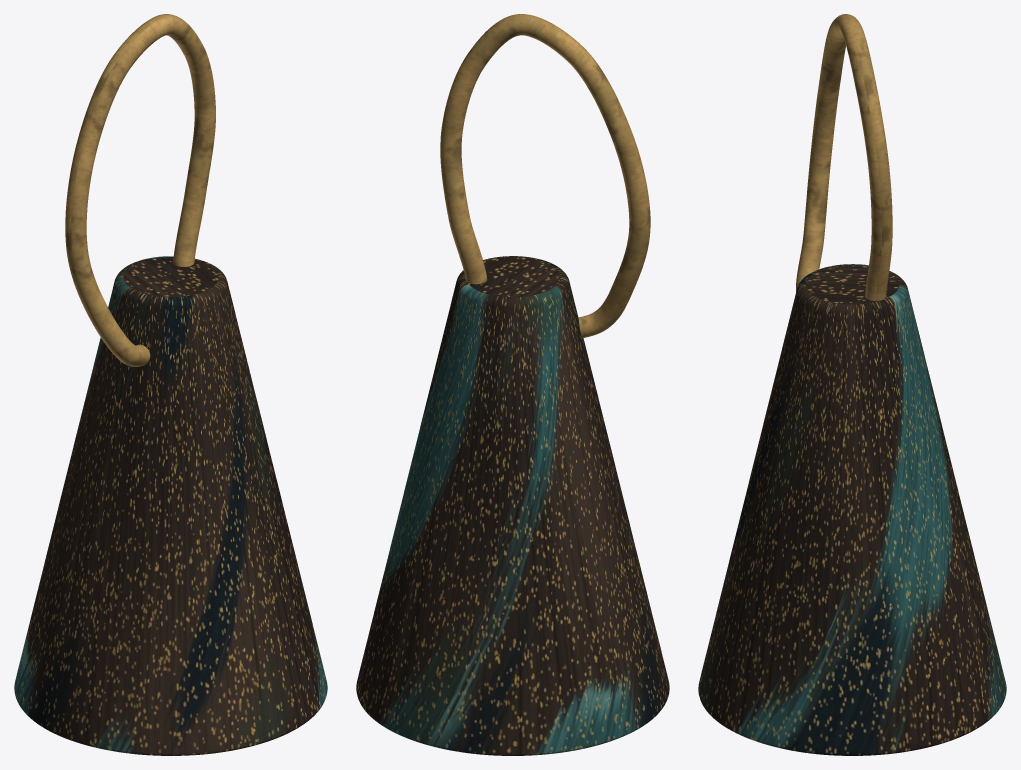
File: king-black-hd.glb
3 views of the same model, side by side, from view 1: azimuth 30°, elevation 25°; view 2: azimuth 150°, elevation 25°; view 3: azimuth 270°, elevation 25° (orthographic).
Parts seen in each view (by area): view 1: Telo, Smycka; view 2: Telo, Smycka; view 3: Telo, Smycka.
Boxes of the visible parts, <box> form: Telo: <box>14,256,327,755</box>; Smycka: <box>65,14,215,366</box>; Telo: <box>356,256,669,755</box>; Smycka: <box>440,14,650,337</box>; Telo: <box>698,264,1006,755</box>; Smycka: <box>796,14,892,300</box>.
Size of the model in its own units: 0.6367 by 1.52 by 0.6367.
Materials: 2 (2 with a texture image).
